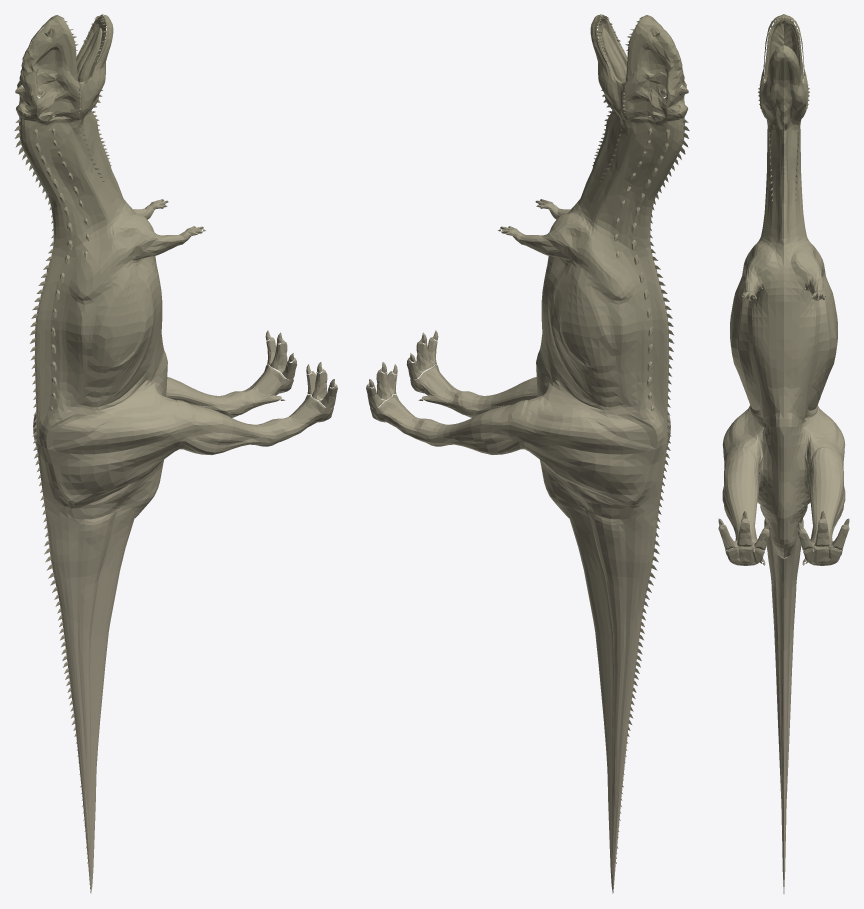
Rendered from majungasaurus.glb.
3 views of the same model, side by side, from view 1: azimuth 30°, elevation 25°; view 2: azimuth 150°, elevation 25°; view 3: azimuth 270°, elevation 25° (orthographic). The views are drawn at different scales.
Visible parts, largest first — view 1: world; view 2: world; view 3: world.
Part boxes in pixels (x1,y1,x2,y2): world: (14,14,337,893); world: (366,14,689,893); world: (718,14,849,893).
Bounding box in the file's own units: 3.44 × 10 × 1.38.
